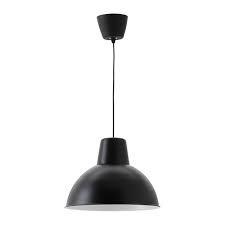Lamp: (62, 8, 163, 214)
